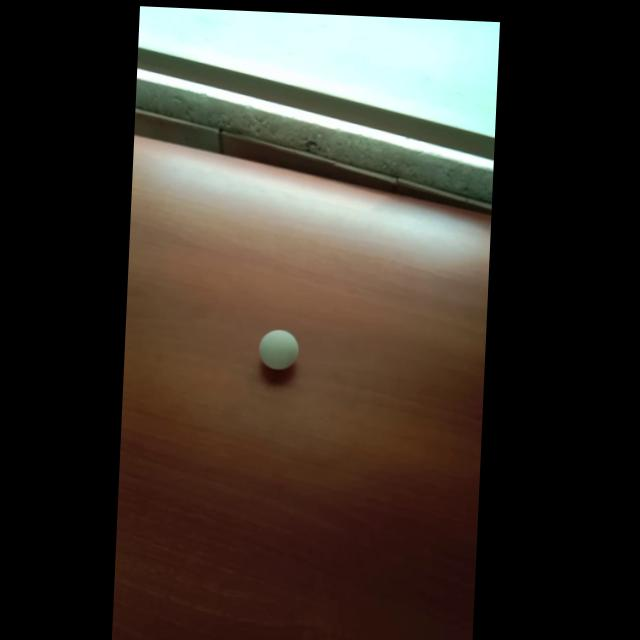white ball: (258, 328, 300, 372)
